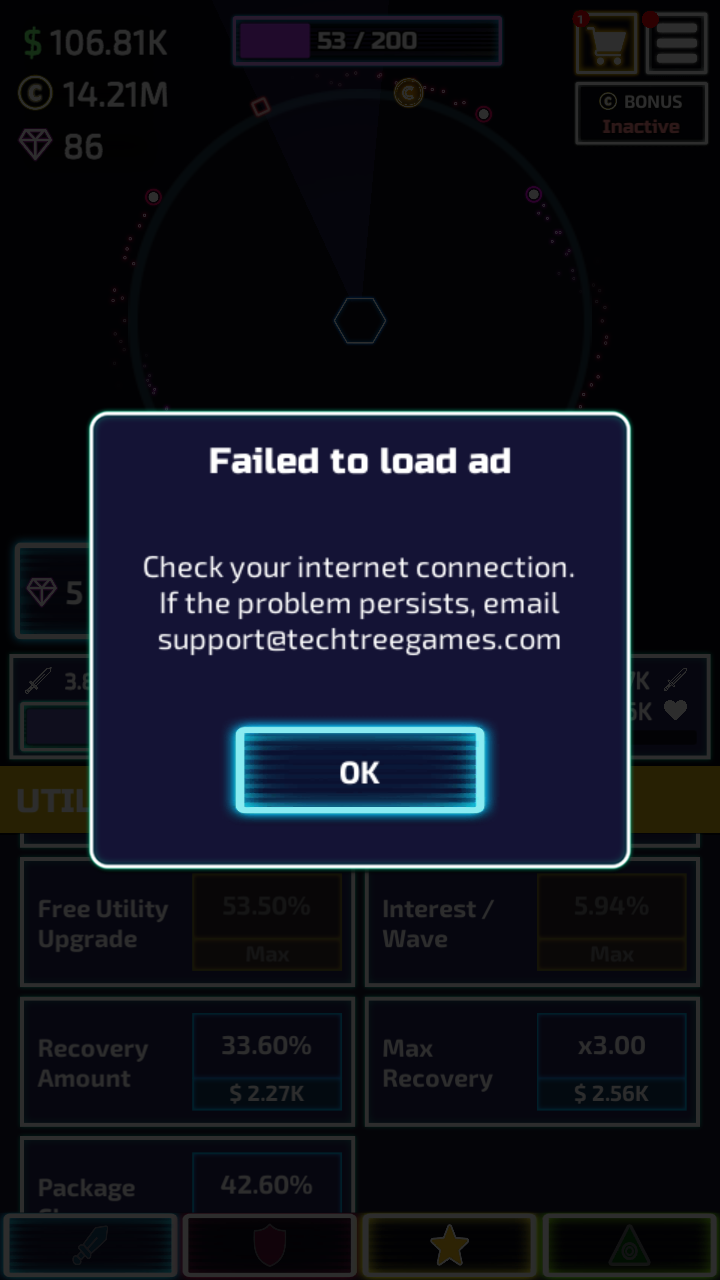B_Failed_To_Load_Ad_Ok: (227, 717, 493, 821)
B_Gem_Ad: (11, 541, 92, 639)
B_Menu_Action_Required: (637, 8, 704, 71)
B_Menu_Closed: (572, 14, 707, 72)
B_Slot: (15, 851, 356, 988), (368, 854, 700, 985), (20, 1000, 355, 1126), (363, 1001, 700, 1120), (361, 1131, 702, 1208), (21, 1138, 344, 1214)
B_Slot_Button: (187, 1012, 346, 1118), (188, 870, 348, 975), (530, 873, 686, 972), (533, 1014, 686, 1112), (188, 1149, 341, 1216)
B_Slot_Label: (22, 888, 176, 960), (369, 1031, 510, 1103), (24, 1032, 165, 1101), (370, 889, 505, 955), (28, 1169, 154, 1209)
B_Slot_Maxed: (529, 871, 687, 976), (187, 873, 349, 975)
B_Slot_Price: (211, 1075, 314, 1110), (557, 1077, 657, 1111)
B_Slot_Value: (202, 1164, 322, 1204), (206, 883, 324, 922), (200, 1026, 322, 1062), (554, 886, 663, 924), (555, 1027, 657, 1063)
B_Tab_Defense: (4, 769, 97, 840), (629, 771, 720, 843)
